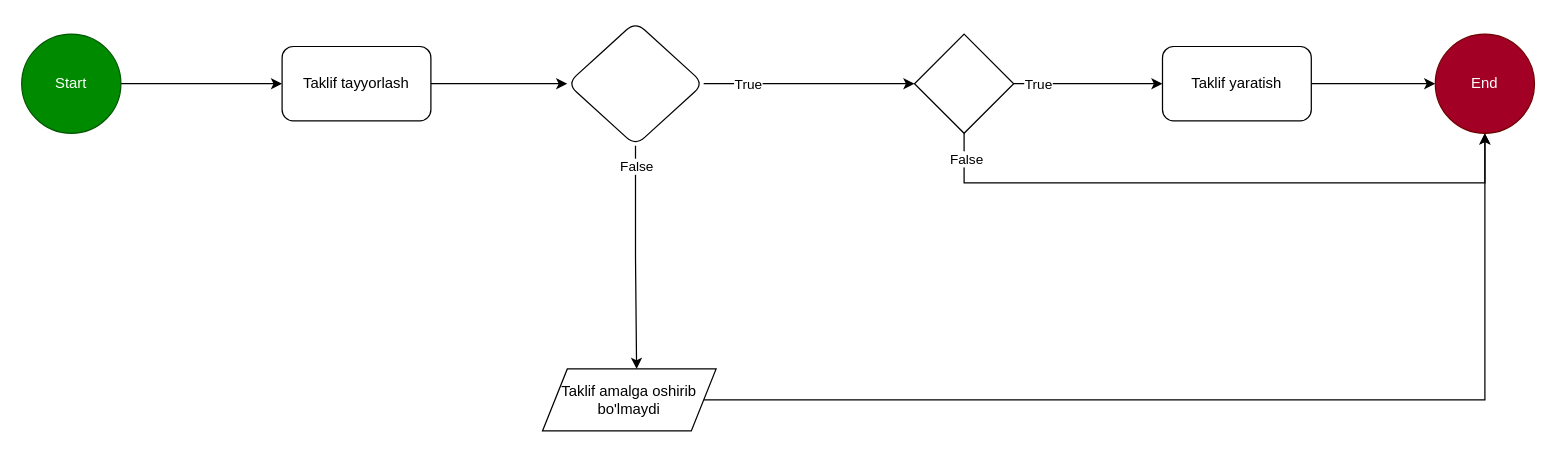
Some shapes in this 1556 by 453 pixel diagram are drawn without their labels. The shapes that lost their labels are listed below. From the top down, each one's centre as x and y in pixels, then its label:
the point at 635,83: Taklifni amalga oshirshni tekshirish
the point at 963,83: Xodimlar mavjudmi
